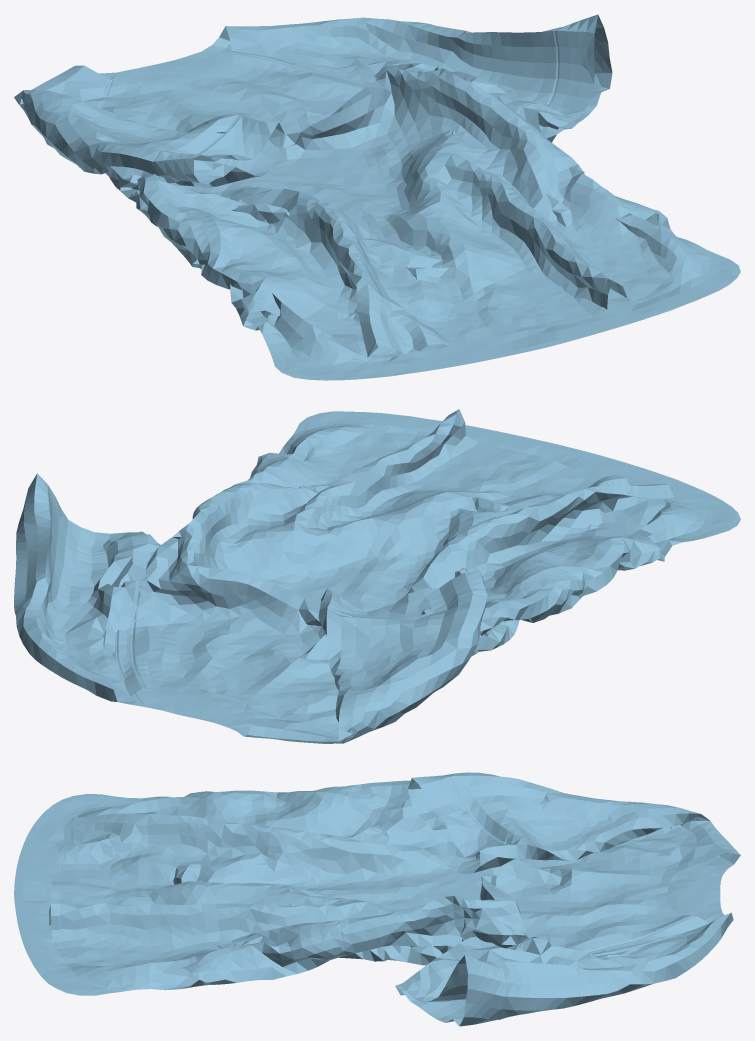
The model's file is frame_03.glb.
The picture shows the model from 3 angles, top to bottom: view 1: azimuth 30°, elevation 25°; view 2: azimuth 150°, elevation 25°; view 3: azimuth 270°, elevation 25°; orthographic projection. The views are drawn at different scales.
Parts seen in each view (by area): view 1: frame_03.obj; view 2: frame_03.obj; view 3: frame_03.obj.
Part boxes in pixels (<box>): frame_03.obj: <box>14,14,740,380</box>; frame_03.obj: <box>14,409,740,743</box>; frame_03.obj: <box>14,772,740,1026</box>.
Bounding box in the file's own units: 1.41 × 0.219 × 1.81.
